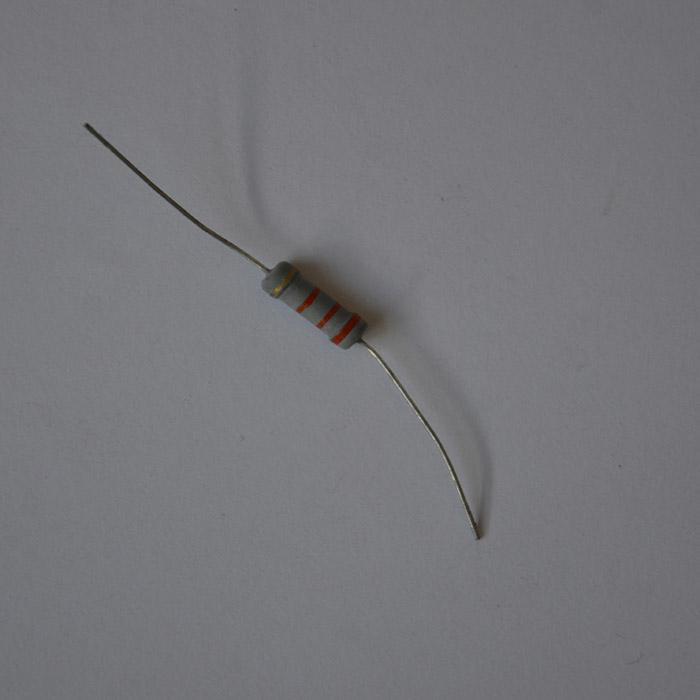resistor: (261, 259, 368, 350)
